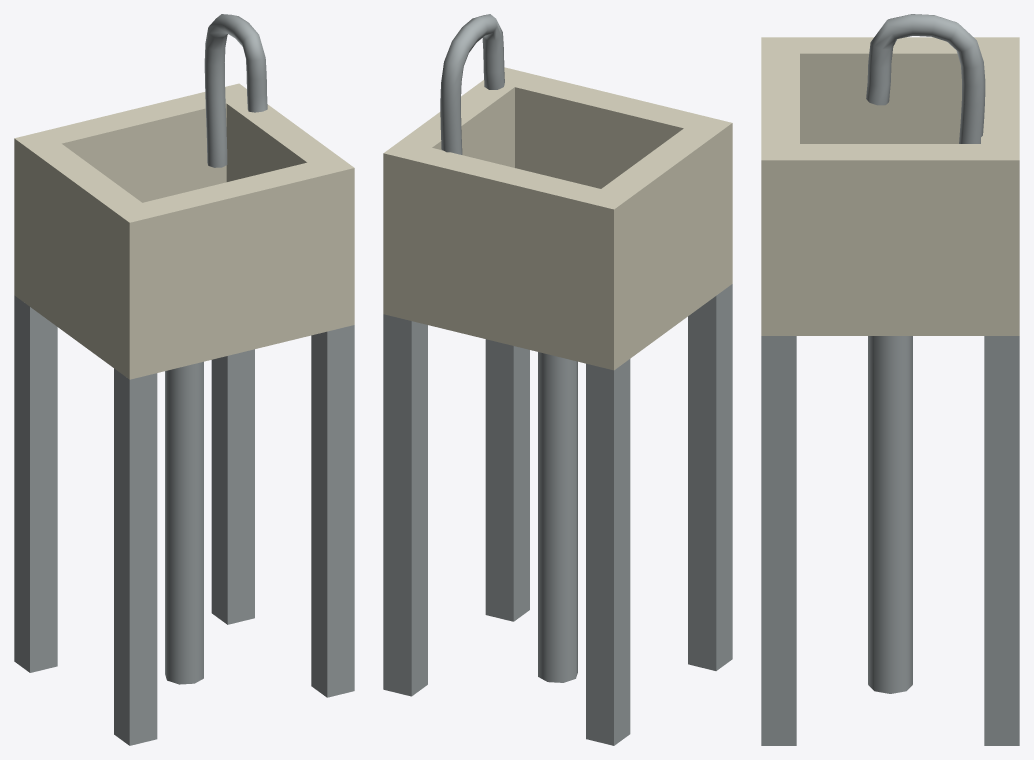
The model's file is roadside-survival-stops-drinking-fountain-eb08e6c6__23554.glb.
3 views of the same model, side by side, from view 1: azimuth 30°, elevation 25°; view 2: azimuth 150°, elevation 25°; view 3: azimuth 270°, elevation 25° (orthographic). The views are drawn at different scales.
Visible parts, largest first — view 1: drinking-fountain; view 2: drinking-fountain; view 3: drinking-fountain.
Part boxes in pixels (bbox=[...]): drinking-fountain: bbox=[14, 14, 354, 745]; drinking-fountain: bbox=[383, 14, 732, 745]; drinking-fountain: bbox=[761, 14, 1019, 745].
Bounding box in the file's own units: 0.45 × 1.21 × 0.4.
